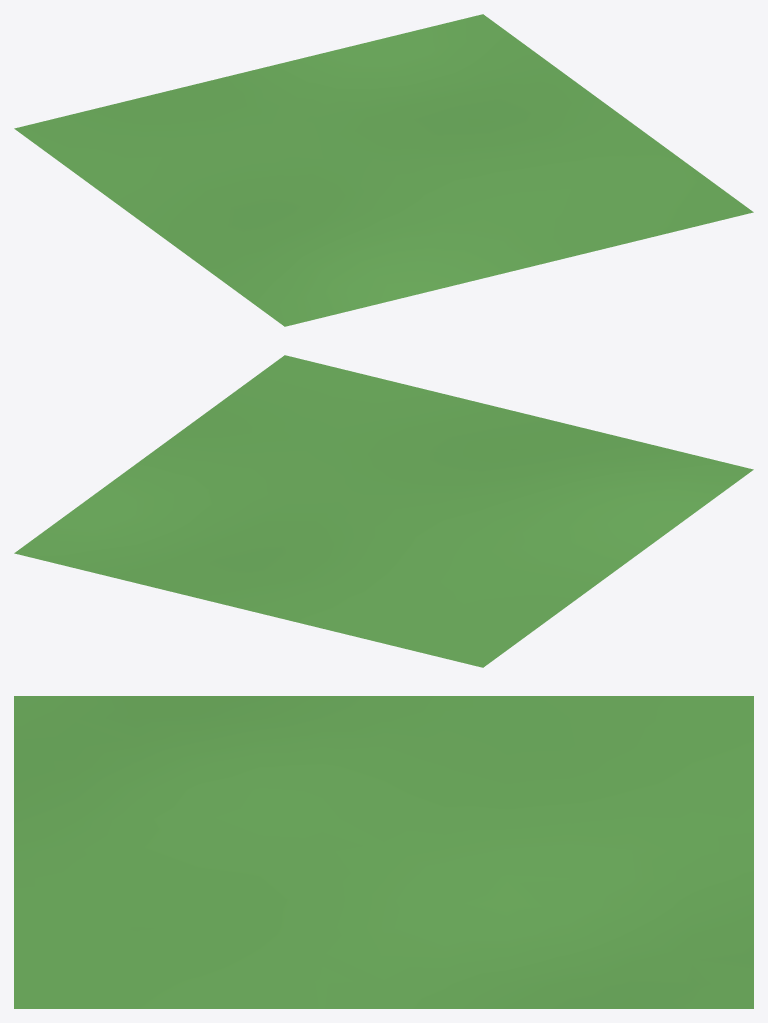
File: td_grasstile.fbx
The picture shows the model from 3 angles, top to bottom: view 1: azimuth 30°, elevation 25°; view 2: azimuth 150°, elevation 25°; view 3: azimuth 270°, elevation 25°; orthographic projection. The views are drawn at different scales.
Visible parts, largest first — view 1: Tile_Grass; view 2: Tile_Grass; view 3: Tile_Grass.
Boxes of the visible parts, bbox=[...] form: Tile_Grass: bbox=[14, 14, 753, 326]; Tile_Grass: bbox=[14, 355, 753, 667]; Tile_Grass: bbox=[14, 696, 753, 1008].
Size of the model in its own units: 200 by 5.1 by 200.
